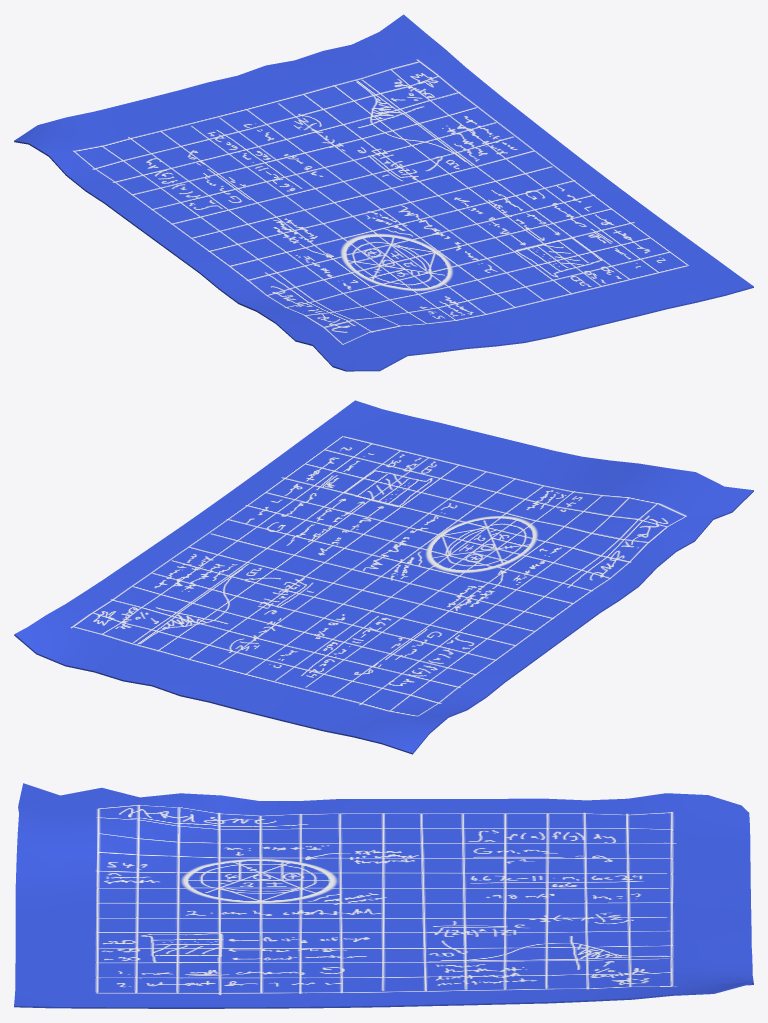
Rendered from blueprint.fbx.
3 views of the same model, one above another, from view 1: azimuth 30°, elevation 25°; view 2: azimuth 150°, elevation 25°; view 3: azimuth 270°, elevation 25° (orthographic). The views are drawn at different scales.
Visible parts, largest first — view 1: blueprint; view 2: blueprint; view 3: blueprint.
Boxes of the visible parts, box(x1,y1,x2,y2) form: blueprint: box(14, 14, 753, 371); blueprint: box(14, 400, 753, 754); blueprint: box(14, 783, 753, 1008).
Size of the model in its own units: 3.05 by 0.2019 by 4.52.
Materials: 1 (1 with a texture image).
